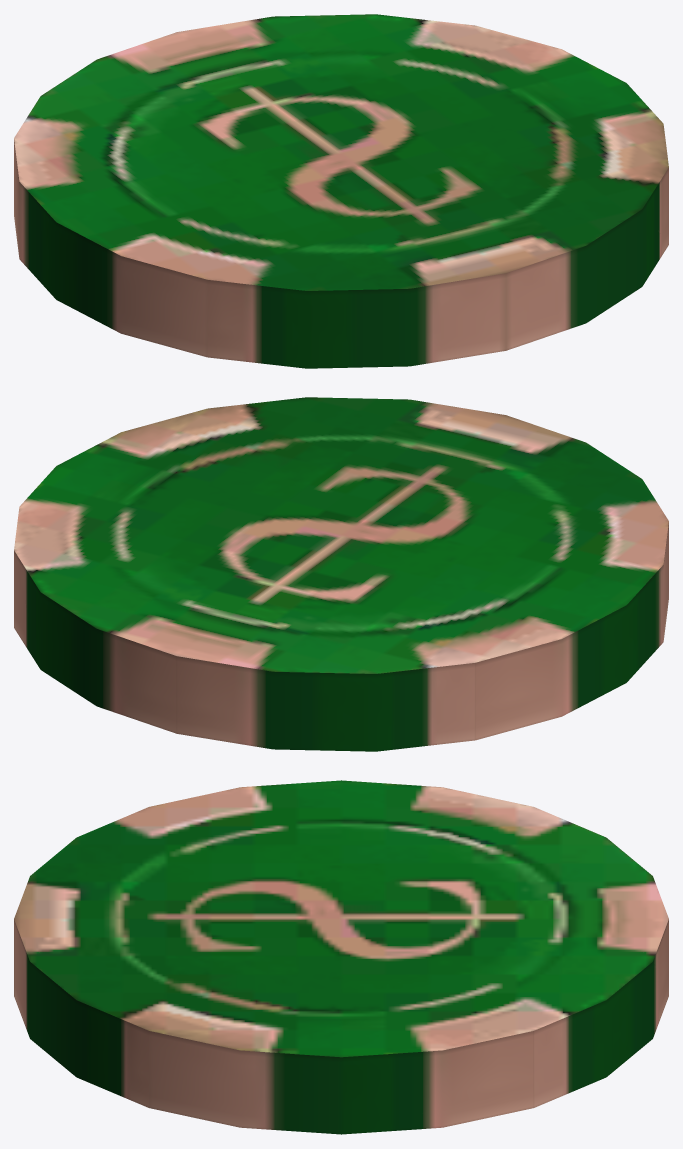
File: NorChipPrefab.fbx
3 views of the same model, one above another, from view 1: azimuth 30°, elevation 25°; view 2: azimuth 150°, elevation 25°; view 3: azimuth 270°, elevation 25° (orthographic).
Parts seen in each view (by area): view 1: NorChipPrefab; view 2: NorChipPrefab; view 3: NorChipPrefab.
Boxes of the visible parts, bbox=[...] form: NorChipPrefab: bbox=[14, 14, 668, 368]; NorChipPrefab: bbox=[14, 397, 668, 751]; NorChipPrefab: bbox=[14, 780, 668, 1134].
Size of the model in its own units: 0.0914 by 0.0119 by 0.0914.
1 material, 1 textured.
